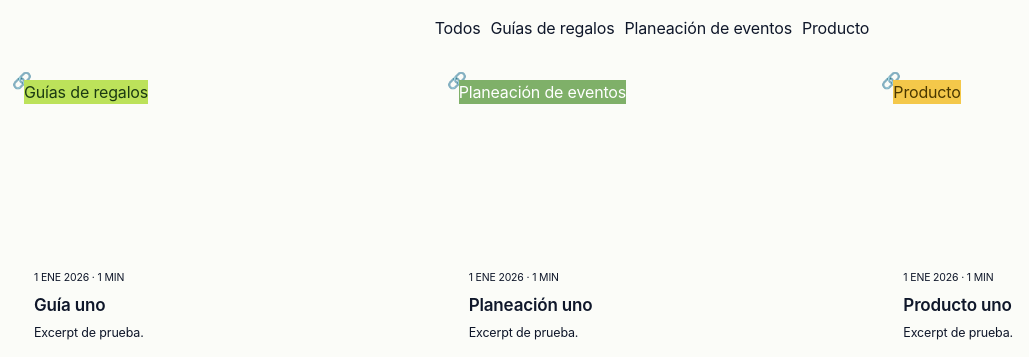
Test: BlogCategoryFilter › returns to every post when Todos is reselected
Click the button "Producto": (836, 28) [802,16,869,40]
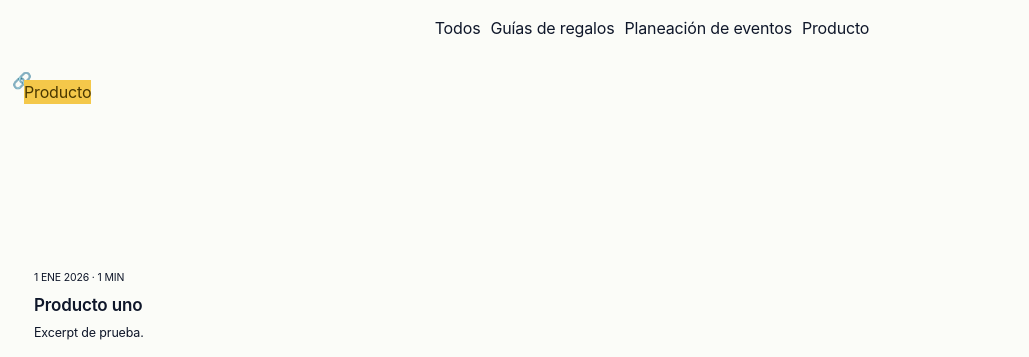
Click the button "Todos": (458, 28) [435,16,480,40]
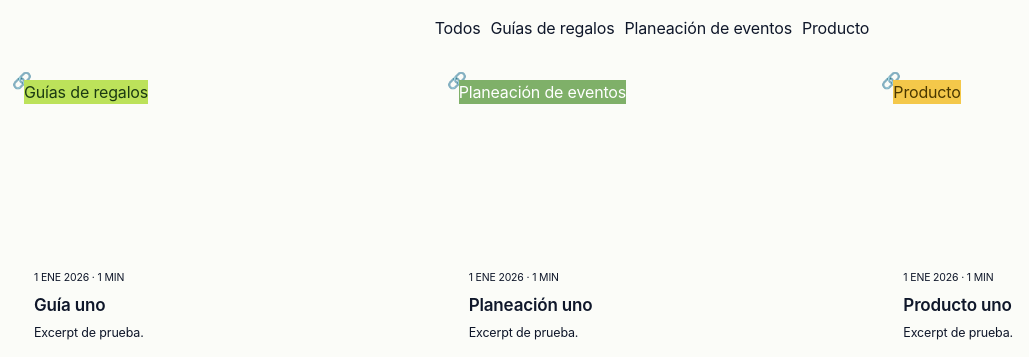
Expected: the text "Producto uno" is shown, [903,295,1012,315]
Result: the text "Guía uno" is shown at [34,295,106,315]
Result: the text "Planeación uno" is shown at [469,295,593,315]
